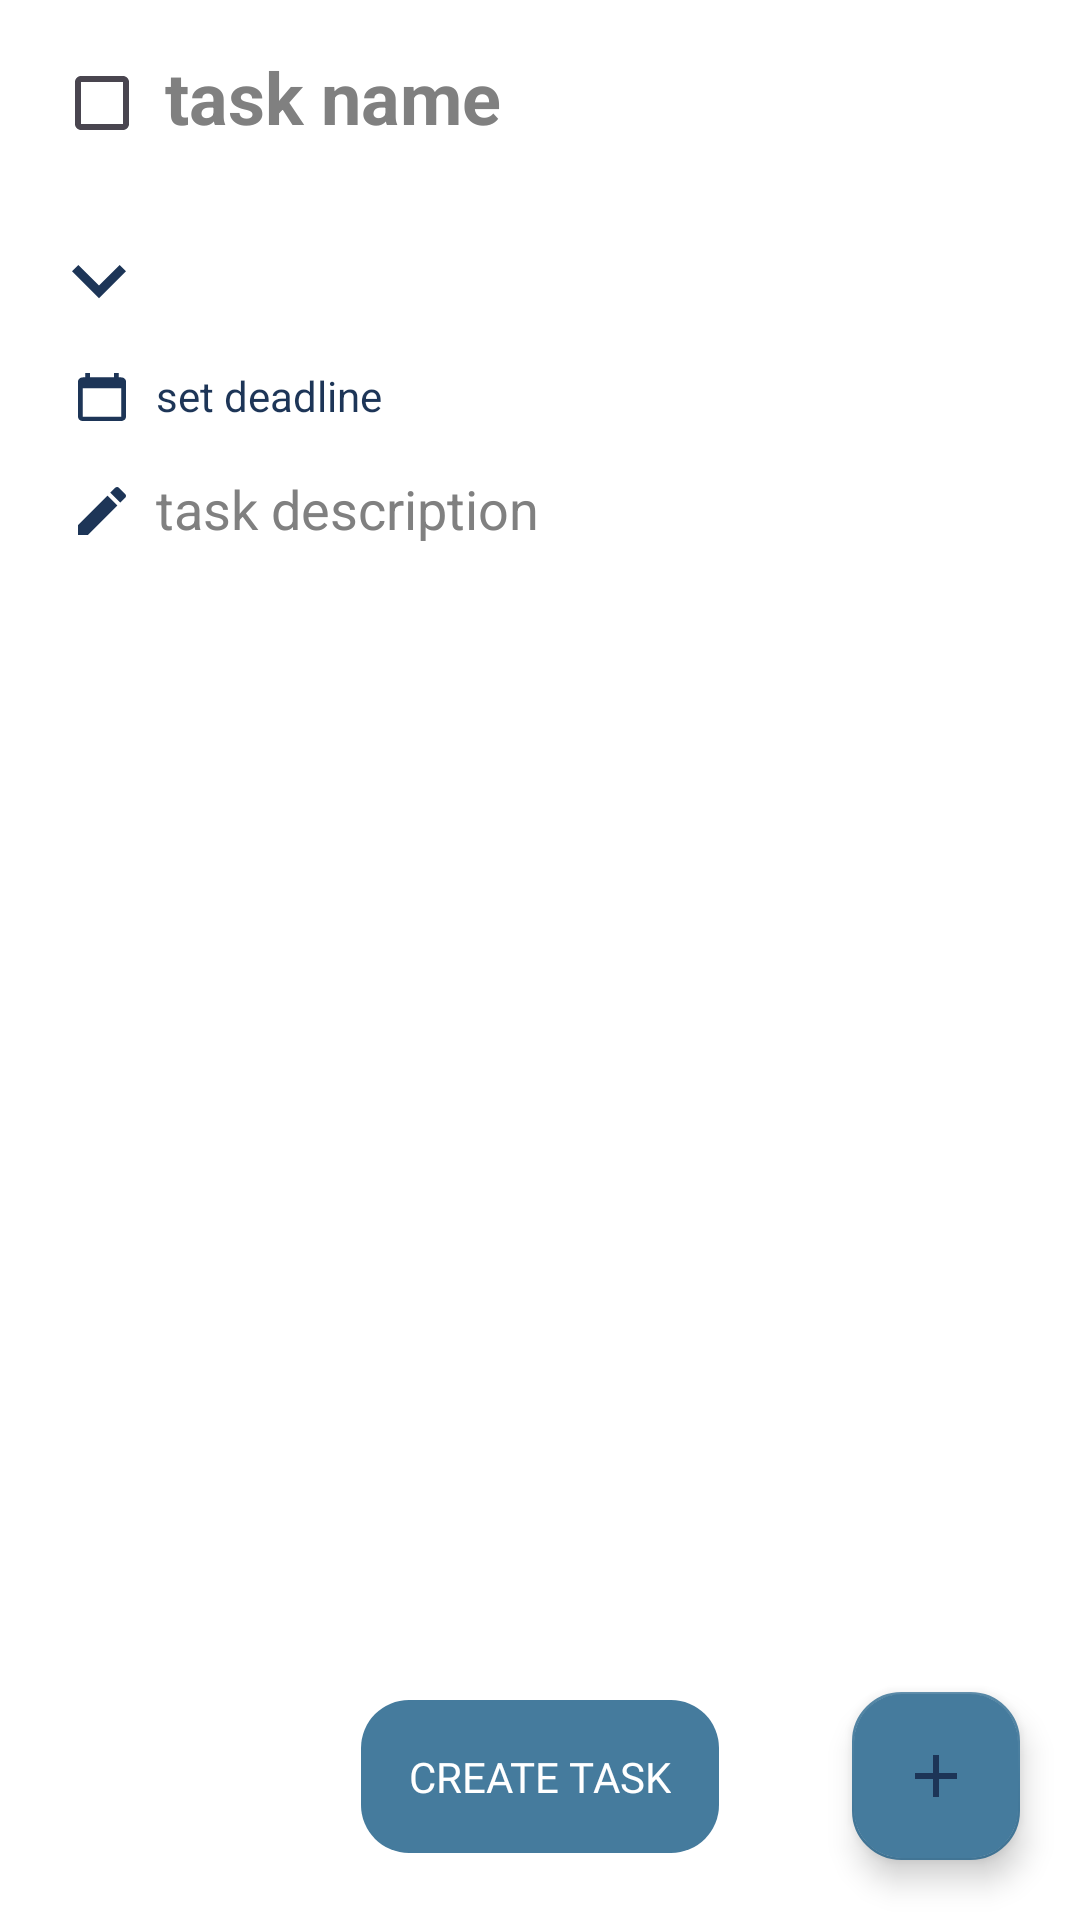

Icons on this 1080px×1920px Android screen, each with its box as (x1, y1, x2, y2):
calendar: (78, 373, 126, 421)
floating action button: (852, 1692, 1020, 1860)
